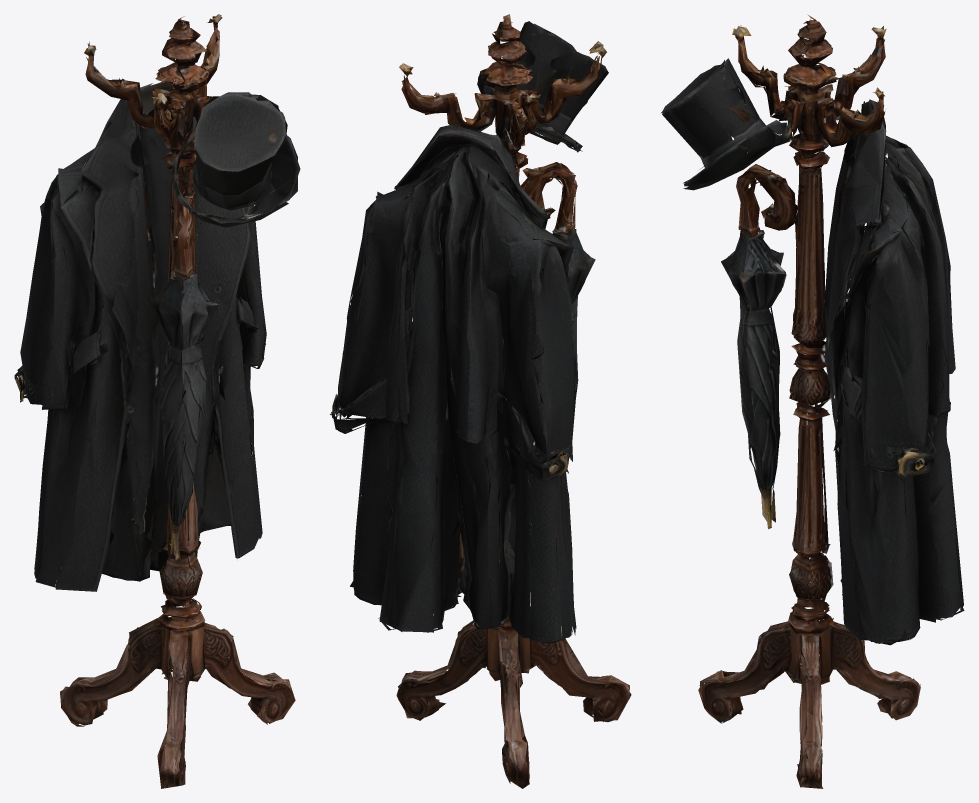
The model's file is CoatRack.fbx.
3 renders of one model, left to right at view 1: azimuth 30°, elevation 25°; view 2: azimuth 150°, elevation 25°; view 3: azimuth 270°, elevation 25°, orthographic.
Visible parts, largest first — view 1: CoatRack; view 2: CoatRack; view 3: CoatRack.
Part boxes in pixels (<box>): CoatRack: <box>14,14,300,788</box>; CoatRack: <box>330,14,631,788</box>; CoatRack: <box>661,14,964,788</box>.
Size of the model in its own units: 34.72 by 101 by 37.9.
1 material, 1 textured.
